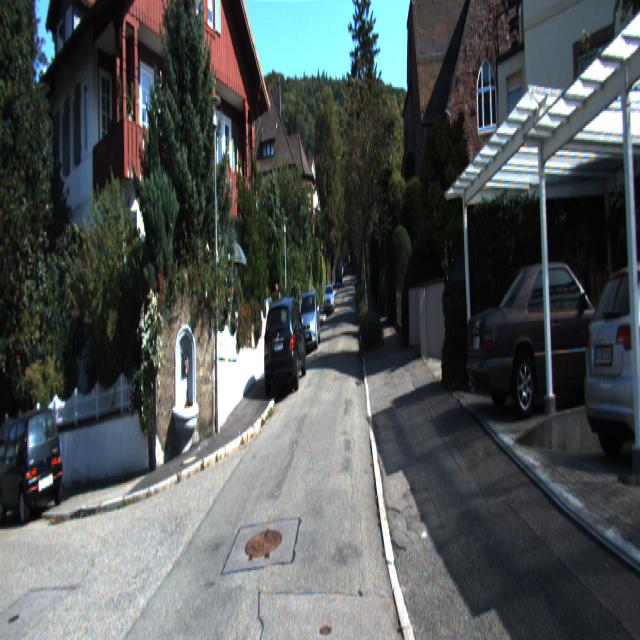Car: (468, 250, 640, 421), (578, 238, 640, 475), (0, 398, 65, 549), (264, 292, 307, 398), (298, 288, 320, 350), (324, 284, 335, 313)
